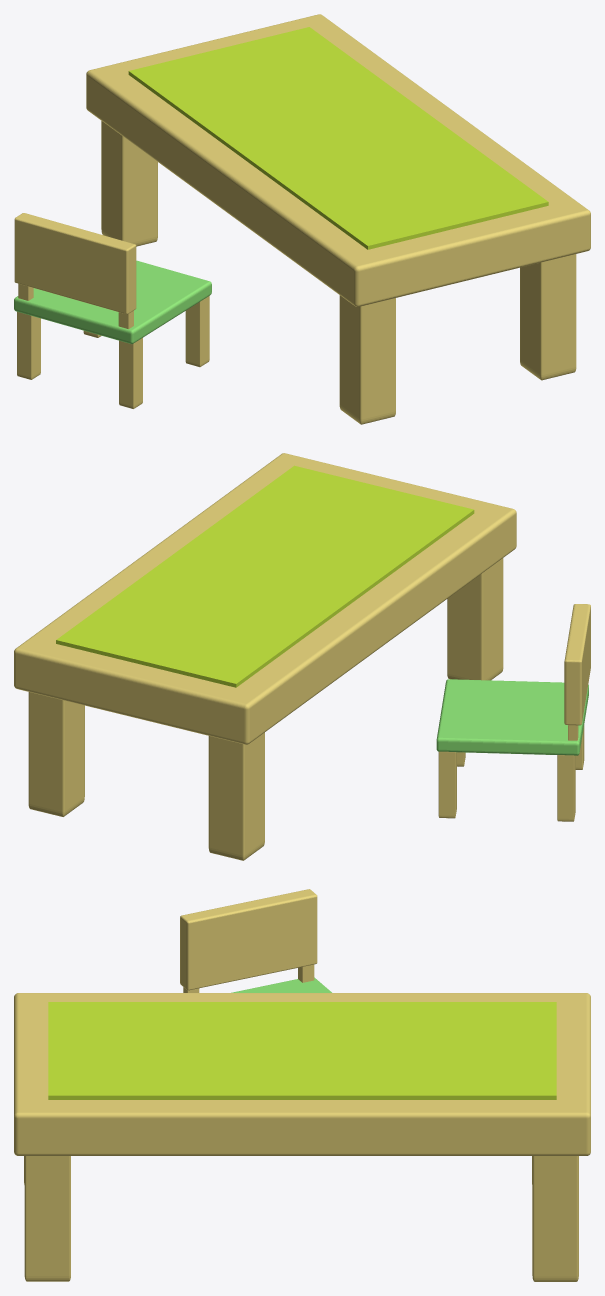
File: deskchair.glb
3 views of the same model, one above another, from view 1: azimuth 30°, elevation 25°; view 2: azimuth 150°, elevation 25°; view 3: azimuth 270°, elevation 25° (orthographic). The views are drawn at different scales.
Visible parts, largest first — view 1: Cube, 立方体.005, 立方体.004, 立方体.001, 立方体, 立方体.003, 立方体.011, 立方体.007, 立方体.012; view 2: Cube, 立方体.004, 立方体.003, 立方体.002, 立方体.001, 立方体.005, 立方体.009, 立方体.012; view 3: Cube, 立方体.005, 立方体.002, 立方体, 立方体.004.
Boxes of the visible parts, box(x1,y1,x2,y2) form: Cube: box(86, 14, 590, 306); 立方体.005: box(14, 213, 136, 314); 立方体.004: box(14, 260, 211, 343); 立方体.001: box(339, 295, 395, 424); 立方体: box(520, 254, 576, 380); 立方体.003: box(101, 121, 157, 246); 立方体.011: box(119, 338, 142, 408); 立方体.007: box(185, 296, 209, 367); 立方体.012: box(17, 311, 40, 379); Cube: box(14, 453, 516, 744); 立方体.004: box(436, 679, 588, 755); 立方体.003: box(208, 732, 264, 860); 立方体.002: box(28, 692, 84, 816); 立方体.001: box(447, 558, 503, 680); 立方体.005: box(564, 604, 590, 725); 立方体.009: box(438, 751, 456, 818); 立方体.012: box(557, 755, 575, 821); Cube: box(14, 993, 590, 1155); 立方体.005: box(180, 889, 317, 990); 立方体.002: box(532, 1156, 578, 1281); 立方体: box(24, 1156, 70, 1281); 立方体.004: box(231, 977, 331, 992).
Size of what is drawn, in the model's own units: 3.71 by 1.35 by 3.97.
